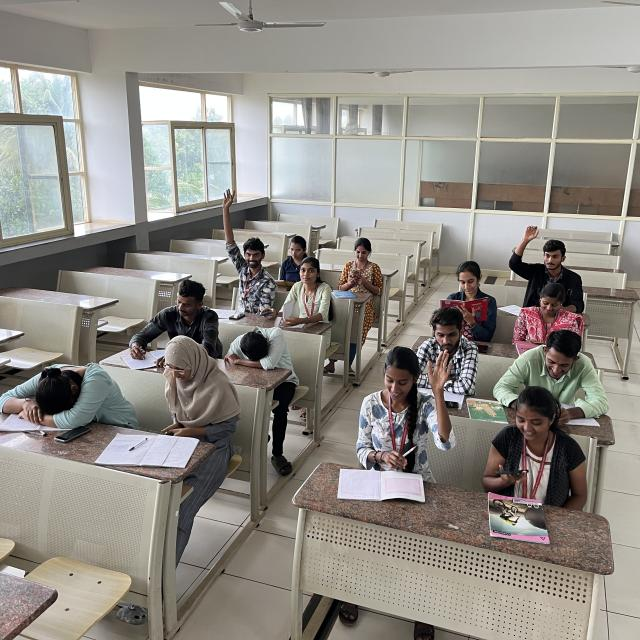Hand Rising: (354, 346, 454, 450), (218, 184, 279, 301), (508, 220, 577, 294)
Reading: (436, 258, 497, 323), (280, 259, 328, 327), (272, 231, 310, 287)
Sleeping: (2, 361, 128, 422), (224, 325, 294, 368)
Using Phone: (481, 386, 577, 488), (153, 333, 236, 439), (512, 281, 580, 349), (342, 237, 378, 287)
Writing: (122, 279, 216, 367)
